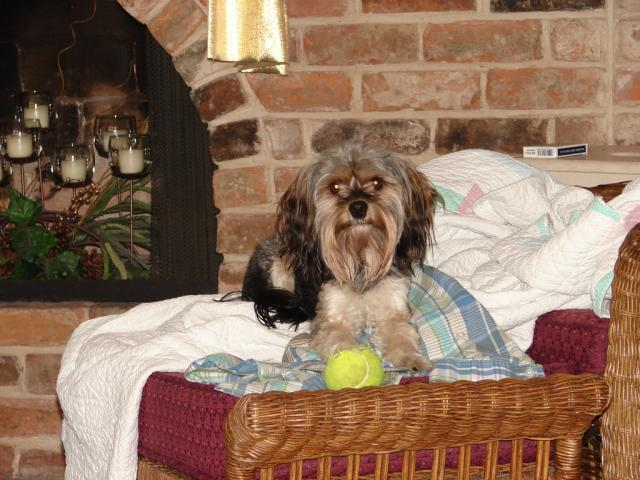Dog: (212, 137, 448, 373)
